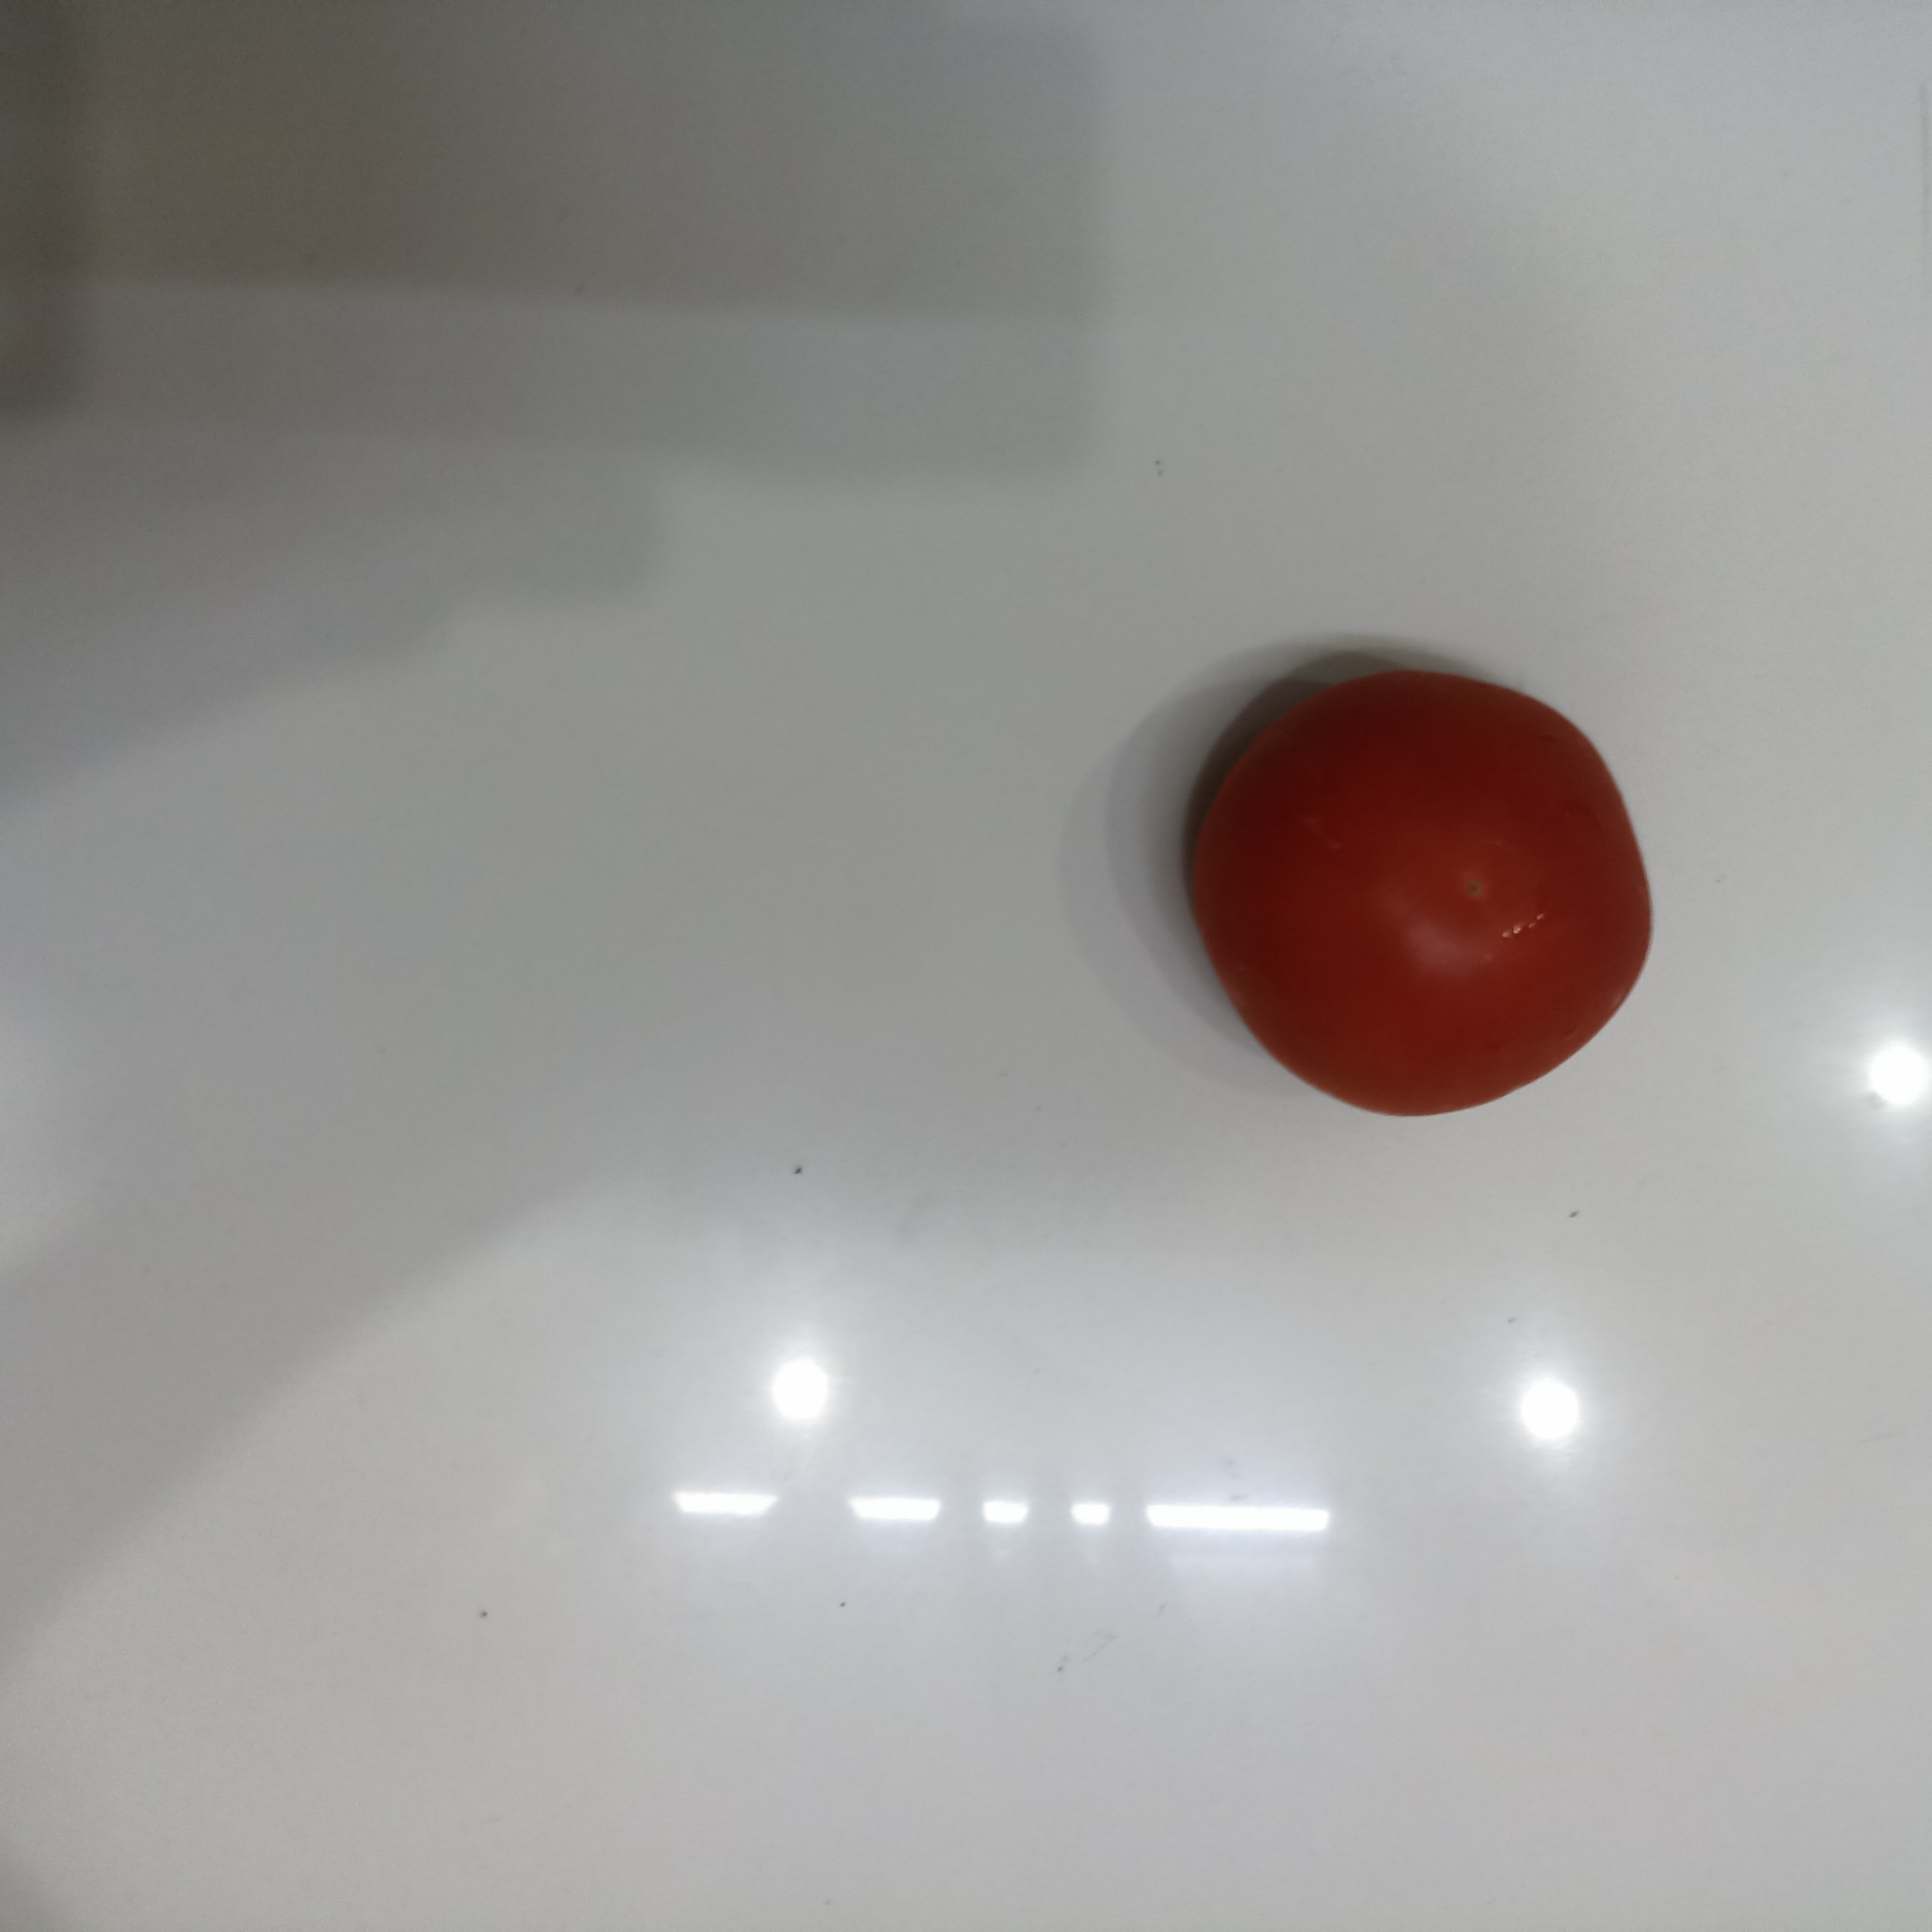Ca chua: (1182, 667, 1658, 1123)
